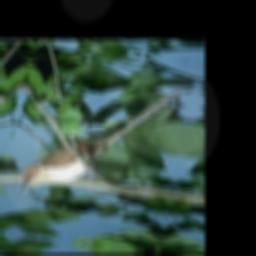Cuckoo: (15, 71, 186, 216)
